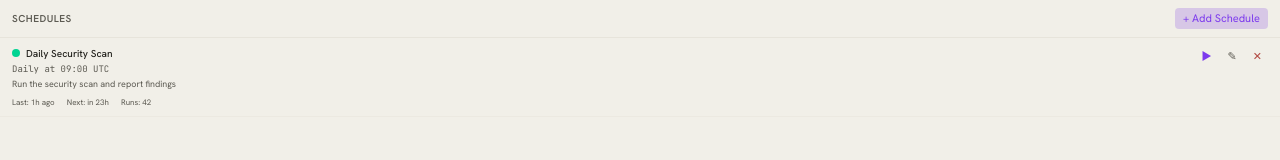
it: ScheduleTab › shows error when delete fails
This screenshot has width=1280, height=160.
What coordinates should you click on to do the following:
click the button named "delete schedule"
I would click on:
 (1257, 56)
Its box is x1=1247 y1=46 x2=1268 y2=66.
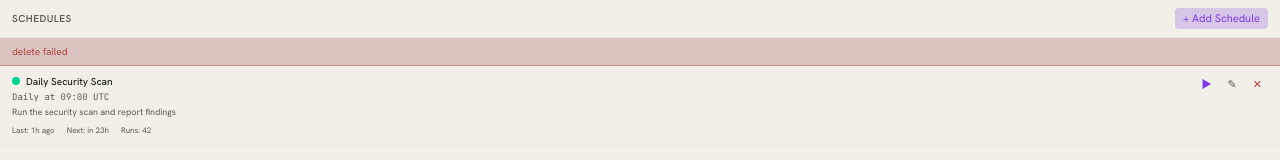
Now the text "delete failed" is shown, box x1=0 y1=38 x2=1279 y2=66
